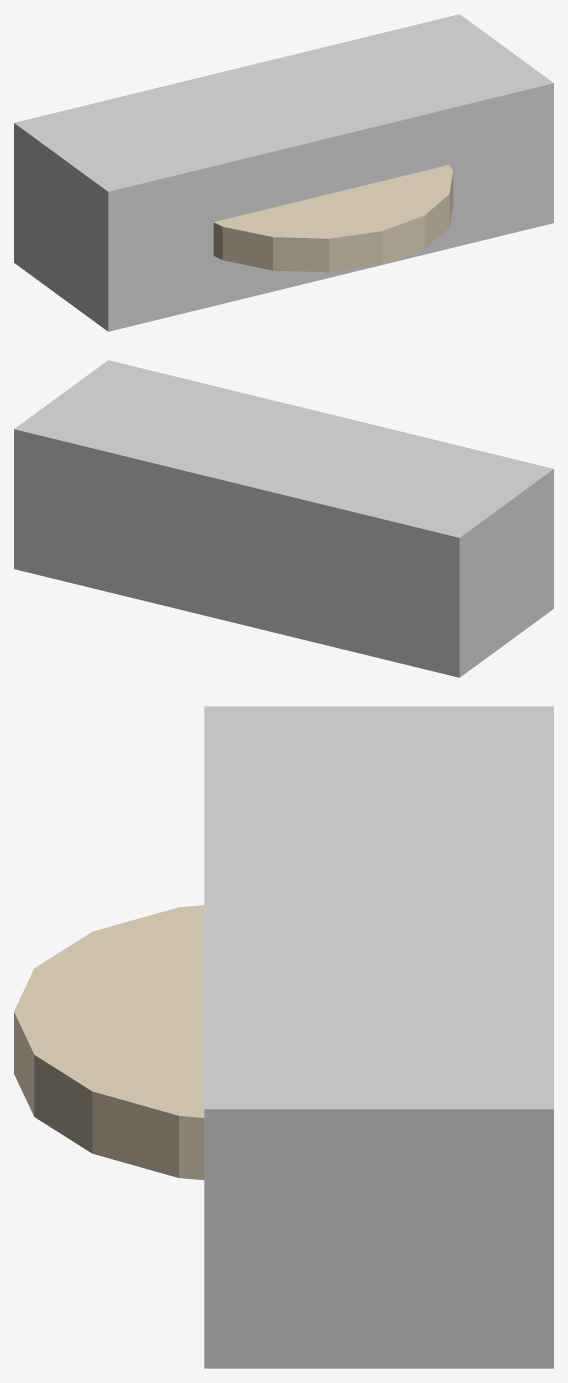
The model's file is picture-light_basic.glb.
3 views of the same model, one above another, from view 1: azimuth 30°, elevation 25°; view 2: azimuth 150°, elevation 25°; view 3: azimuth 270°, elevation 25° (orthographic). The views are drawn at different scales.
Visible parts, largest first — view 1: COL_picture-light, MESH_Shade; view 2: COL_picture-light; view 3: COL_picture-light, MESH_Shade.
Part boxes in pixels (x1,y1,x2,y2): COL_picture-light: [14, 14, 553, 331]; MESH_Shade: [213, 165, 453, 272]; COL_picture-light: [14, 360, 553, 677]; COL_picture-light: [204, 706, 553, 1368]; MESH_Shade: [14, 905, 204, 1180].
Size of the model in its own units: 0.6 by 0.18 by 0.3396.
